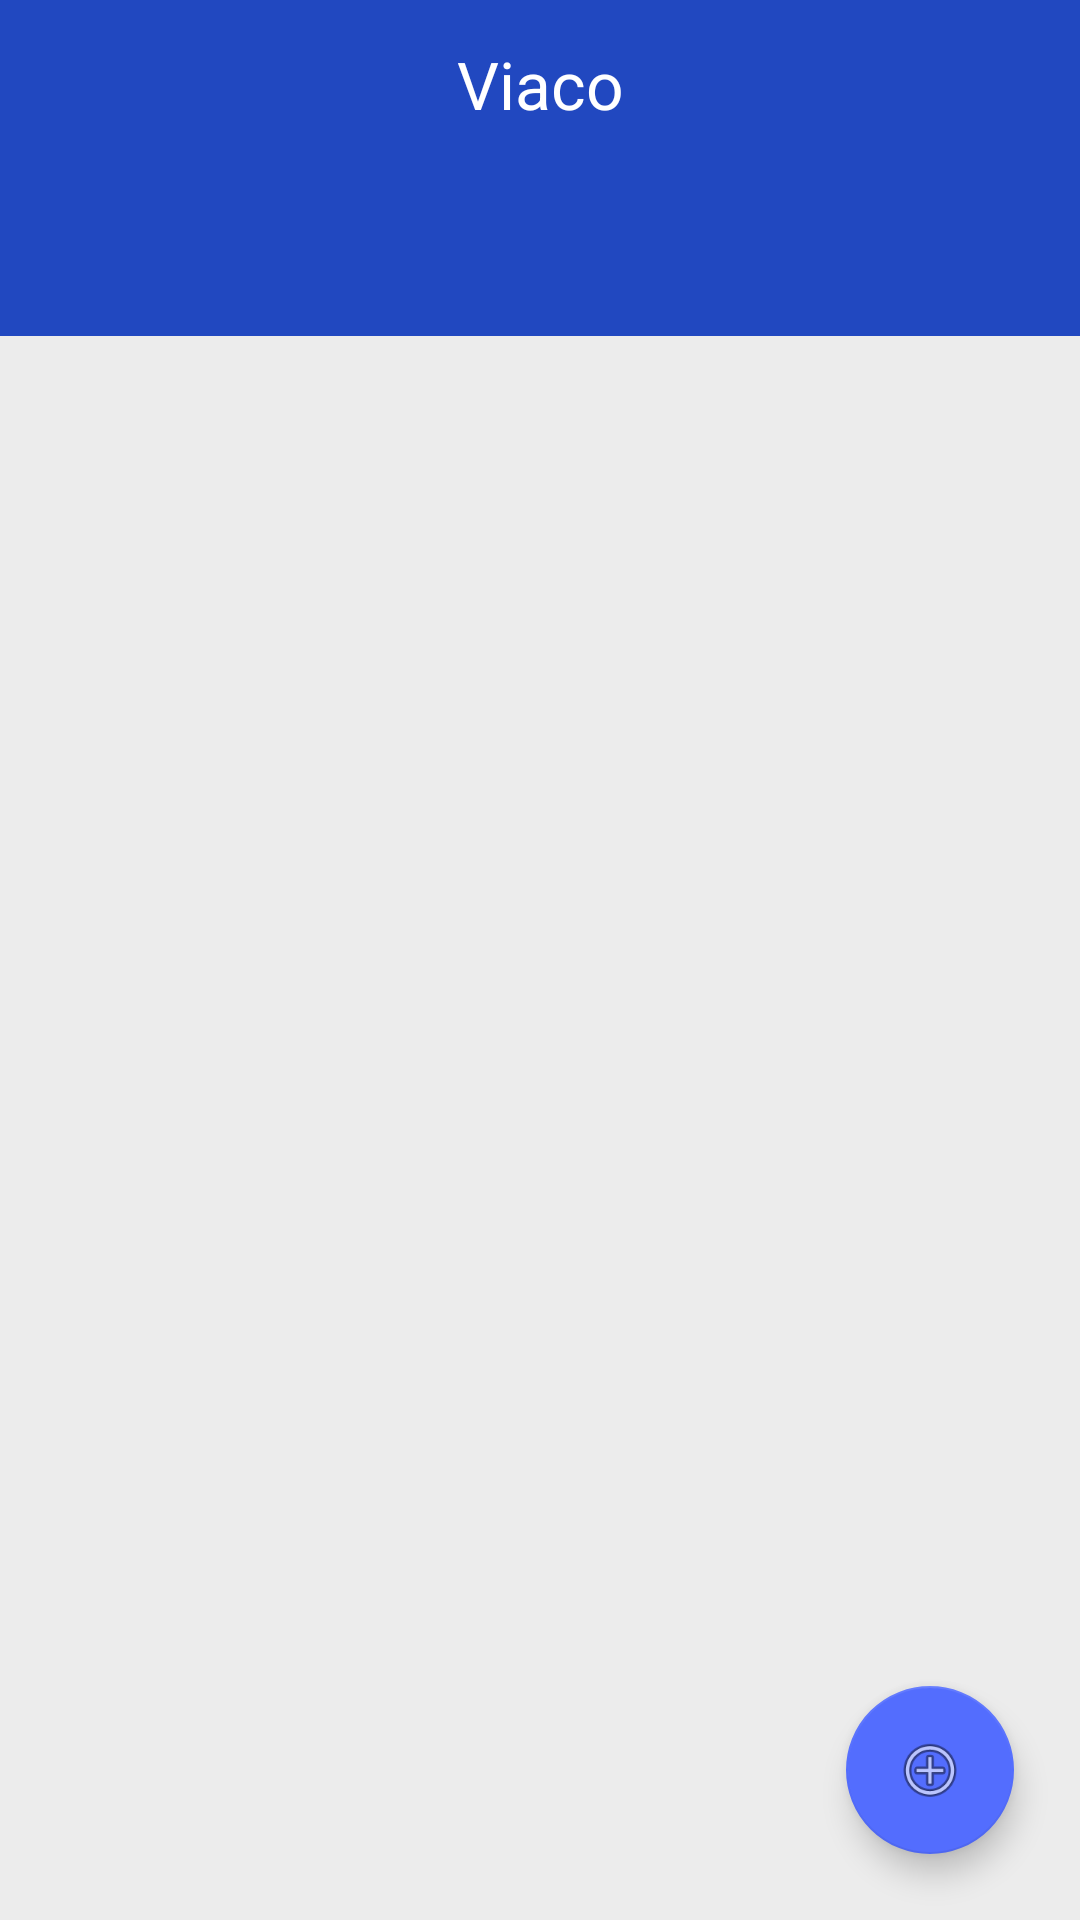

Where icons sit on this 1080 × 1920 app screen, as {"left": x1, "top": y1, "right": x2, "bottom": y2}:
add: {"left": 846, "top": 1686, "right": 1014, "bottom": 1854}
